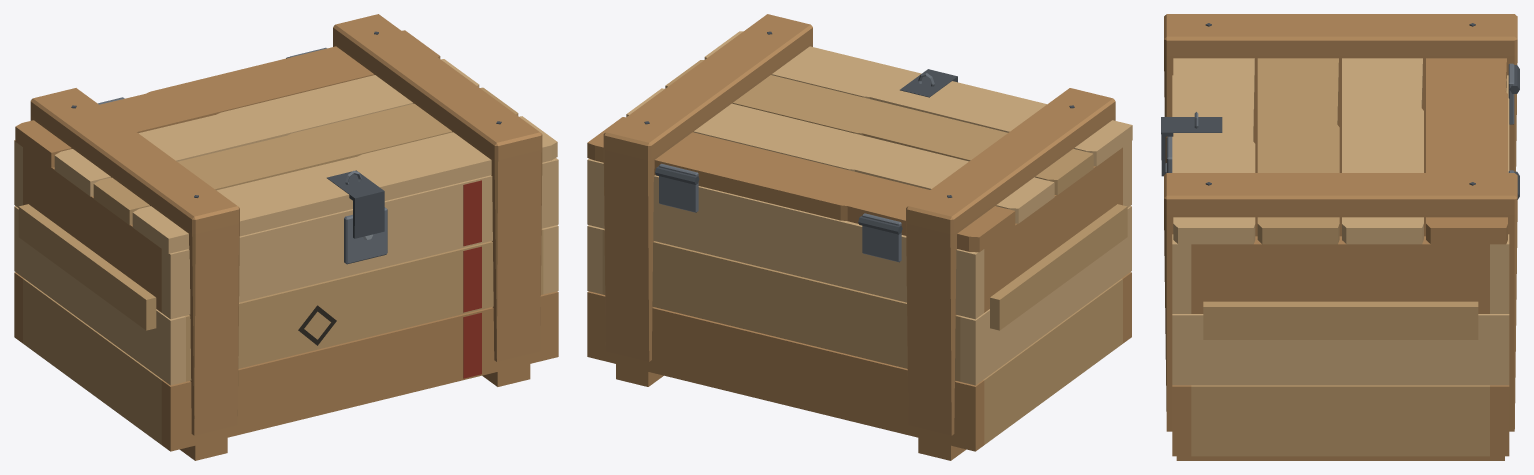
File: Supply Mining Crate.glb
The picture shows the model from 3 angles, left to right: view 1: azimuth 30°, elevation 25°; view 2: azimuth 150°, elevation 25°; view 3: azimuth 270°, elevation 25°; orthographic projection. The views are drawn at different scales.
Visible parts, largest first — view 1: Supply Mining Crate.Static, Supply Mining Crate.Lid, Supply Mining Crate.Latch; view 2: Supply Mining Crate.Static, Supply Mining Crate.Lid, Supply Mining Crate.Latch; view 3: Supply Mining Crate.Static, Supply Mining Crate.Lid, Supply Mining Crate.Latch.
Boxes of the visible parts, x1,y1,x2,y2 form: Supply Mining Crate.Static: (14, 57, 558, 460); Supply Mining Crate.Lid: (15, 14, 557, 253); Supply Mining Crate.Latch: (327, 170, 384, 238); Supply Mining Crate.Static: (587, 141, 1131, 460); Supply Mining Crate.Lid: (587, 14, 1132, 252); Supply Mining Crate.Latch: (900, 69, 957, 97); Supply Mining Crate.Static: (1164, 65, 1519, 460); Supply Mining Crate.Lid: (1164, 14, 1517, 244); Supply Mining Crate.Latch: (1161, 117, 1222, 176).
Bounding box in the file's own units: 0.904 × 0.529 × 0.639.
